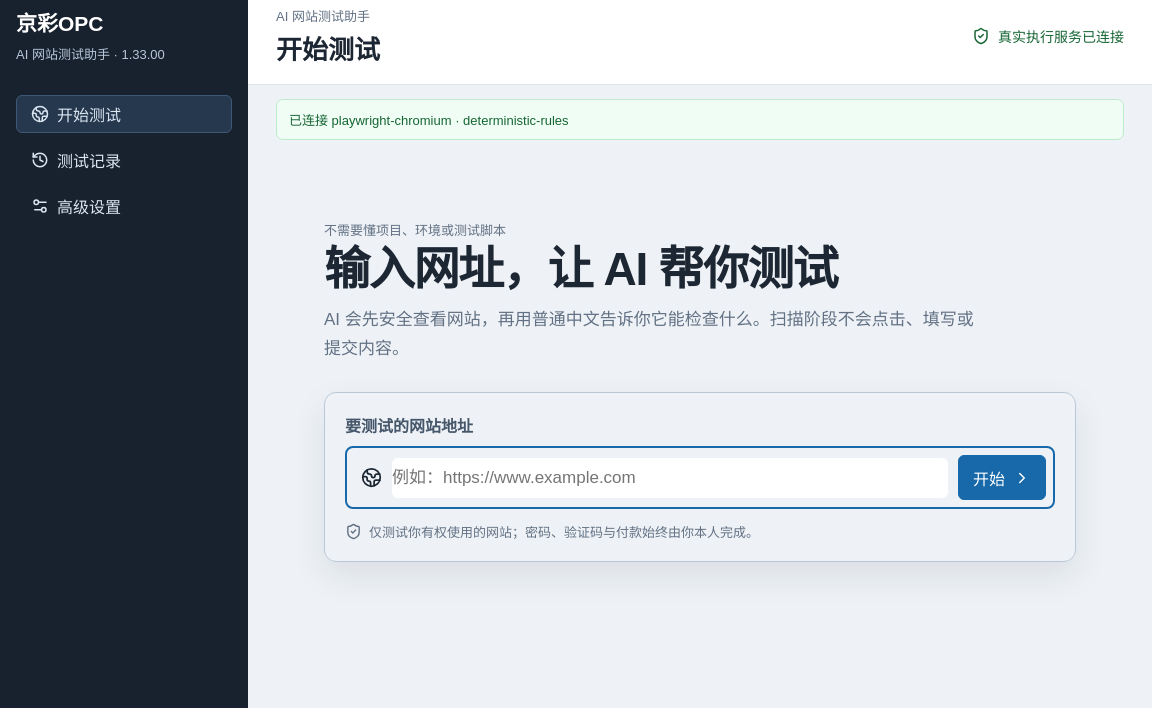
Test: App › keeps an optional login entry and clears the unrelated old goal for a new website
Expected: the text "真实执行服务已连接" is shown, [998,26,1124,46]
Type "https://example.com" into the field labelled "要测试的网站地址" at (670, 478), box [392,458,948,498]
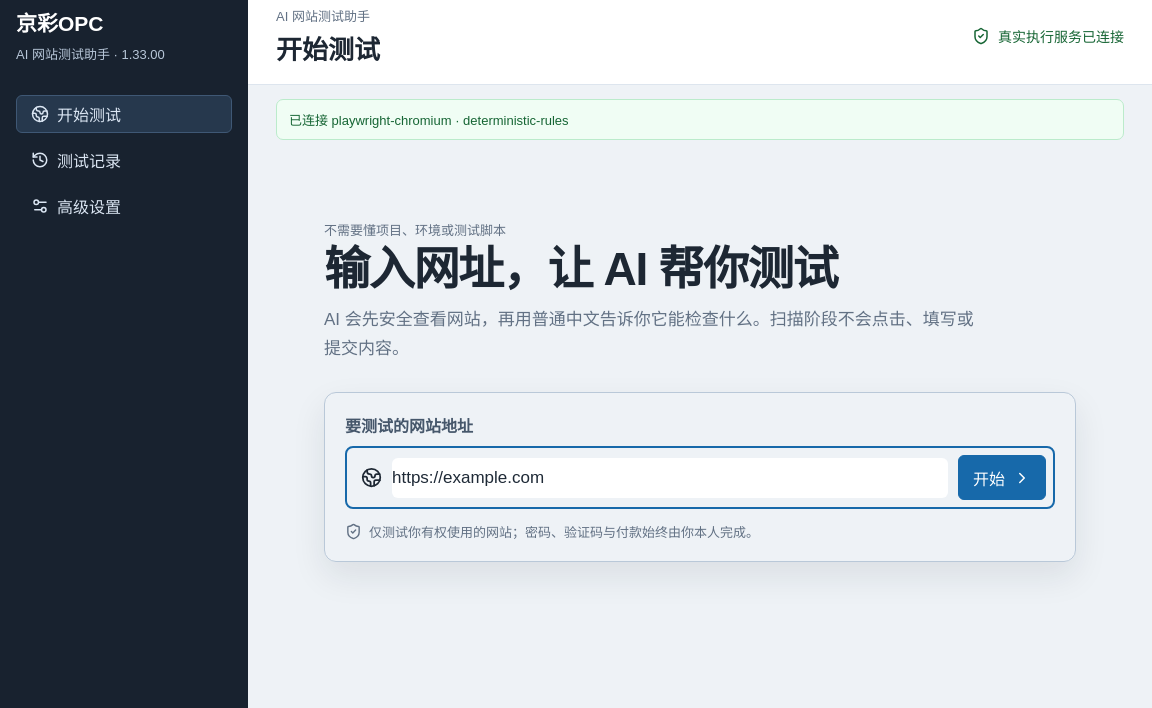
Click the button "开始" at (1002, 478), box [958,455,1046,500]
(page scrolled)
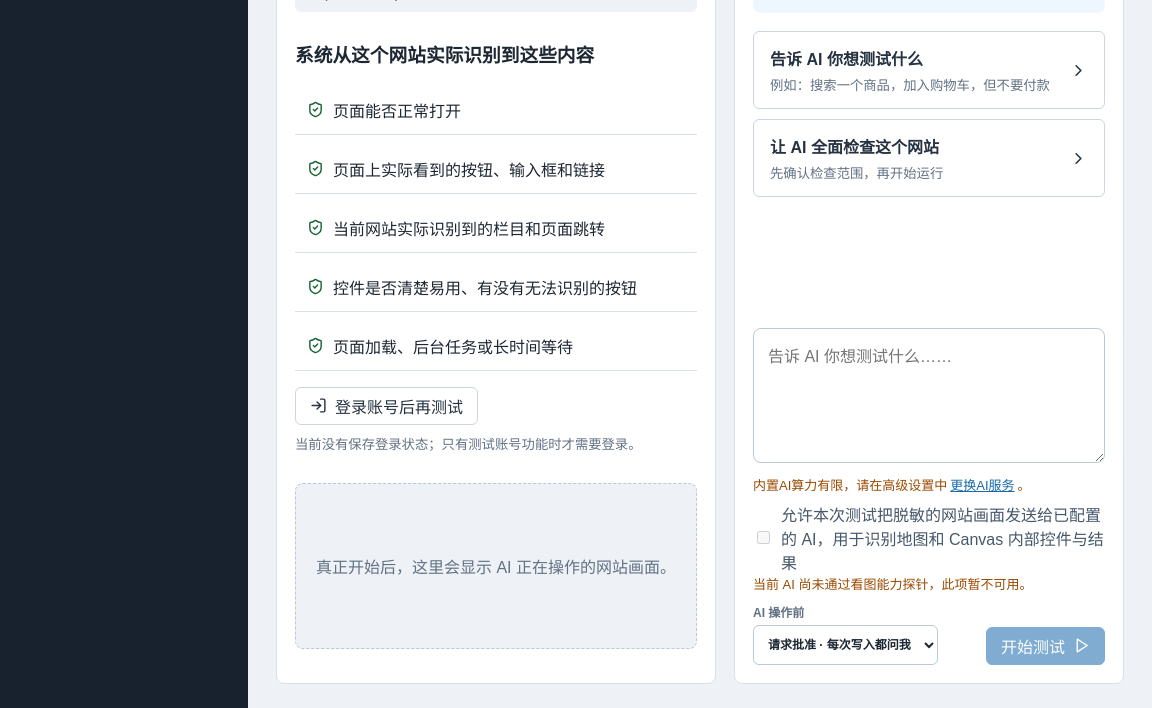
Expected: the button "登录账号后再测试" is shown, [295,387,478,425]
Expected: the text "当前没有保存登录状态；只有测试账号功能时才需要登录。" is shown, [295,435,642,455]
Expected: the text box with placeholder "告诉 AI 你想测试什么……" is empty, [753,328,1105,463]
